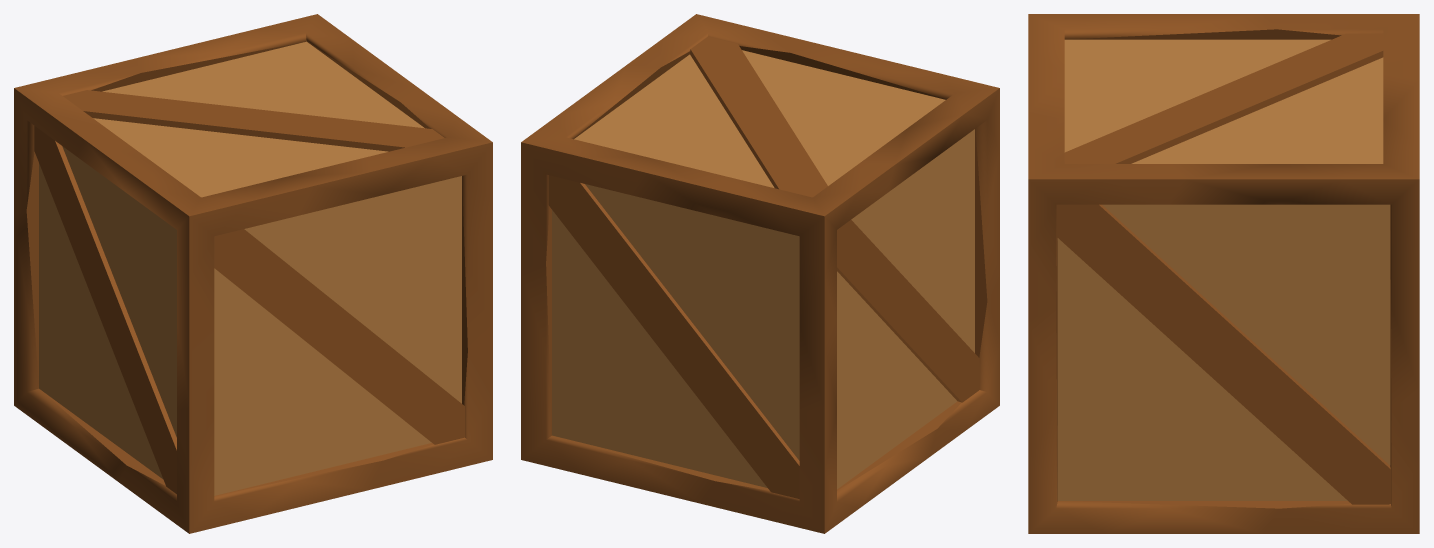
Rendered from crate.fbx.
3 renders of one model, left to right at view 1: azimuth 30°, elevation 25°; view 2: azimuth 150°, elevation 25°; view 3: azimuth 270°, elevation 25°, orthographic. The views are drawn at different scales.
Visible parts, largest first — view 1: crate; view 2: crate; view 3: crate.
Part boxes in pixels (bbox=[...]): crate: bbox=[14, 14, 492, 533]; crate: bbox=[521, 14, 999, 533]; crate: bbox=[1028, 14, 1419, 533].
Size of the model in its own units: 5 by 5 by 5.
